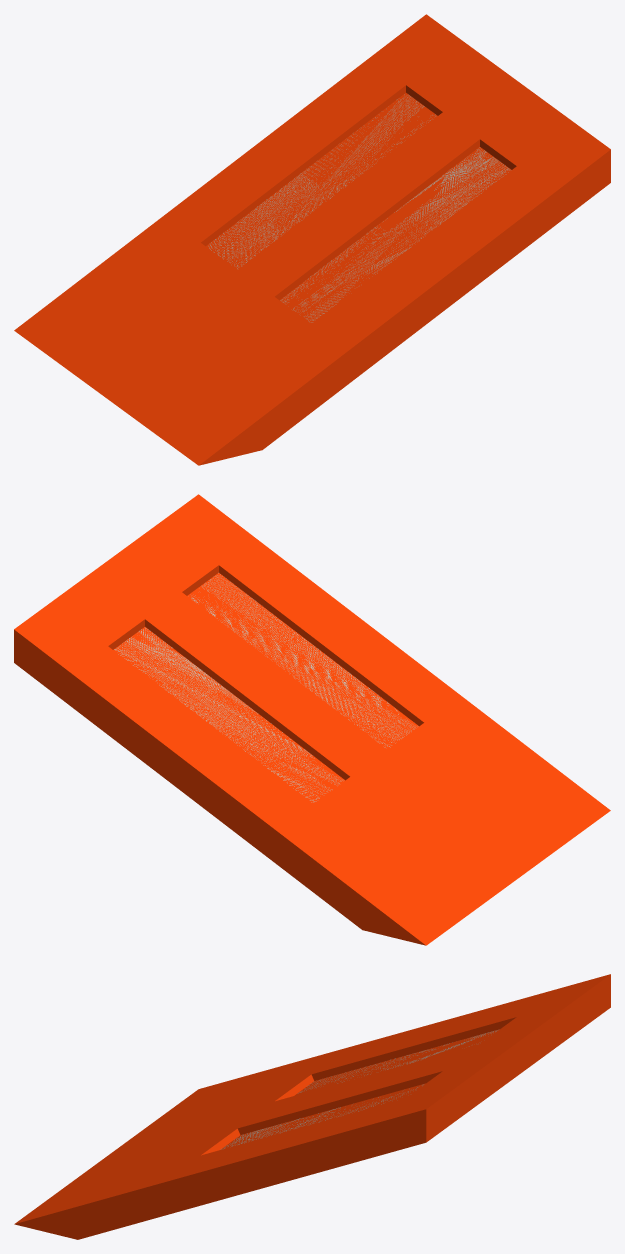
Rendered from roof_small_skylight_3.fbx.
3 views of the same model, one above another, from view 1: azimuth 30°, elevation 25°; view 2: azimuth 150°, elevation 25°; view 3: azimuth 330°, elevation 25° (orthographic).
Visible parts, largest first — view 1: Mesh1_sloped_roof_8_1 Model; view 2: Mesh1_sloped_roof_8_1 Model; view 3: Mesh1_sloped_roof_8_1 Model.
Boxes of the visible parts, left/top/right/bottom form: Mesh1_sloped_roof_8_1 Model: left=14, top=14, right=610, bottom=465; Mesh1_sloped_roof_8_1 Model: left=14, top=494, right=610, bottom=945; Mesh1_sloped_roof_8_1 Model: left=14, top=974, right=610, bottom=1239.
Bounding box in the file's own units: 1.29 × 0.6447 × 1.
